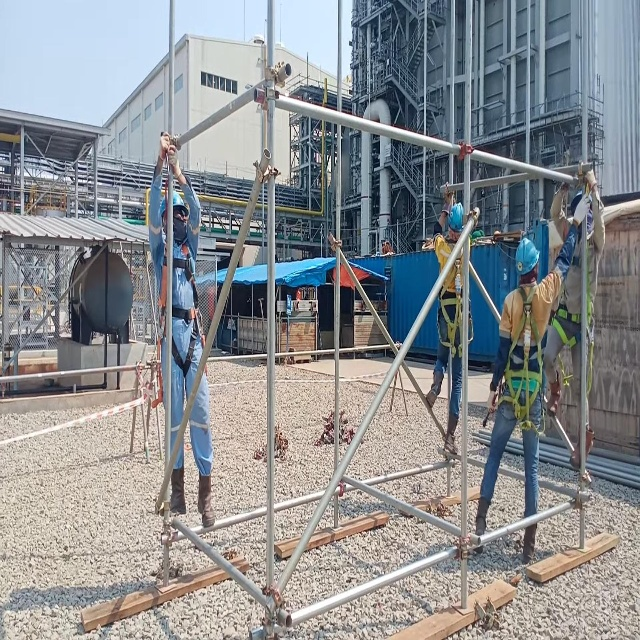Arnes_seguridad: (497, 277, 547, 438), (155, 229, 207, 383), (552, 228, 598, 392), (430, 235, 471, 358)
